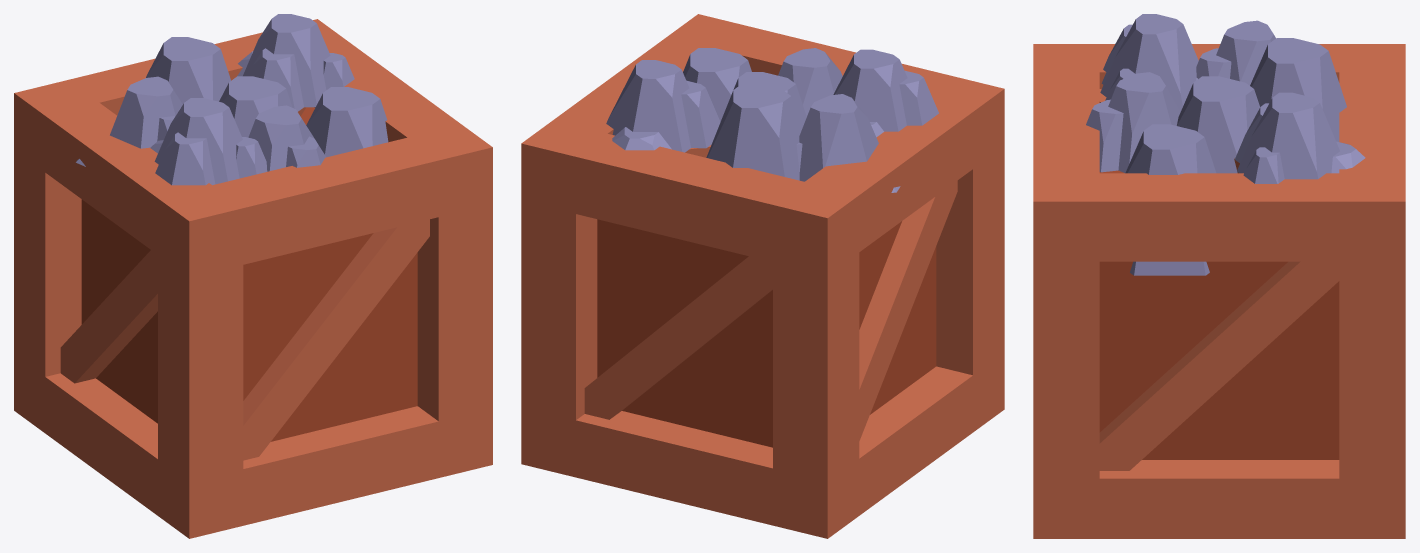
Rendered from RockBox.fbx.
3 renders of one model, left to right at view 1: azimuth 30°, elevation 25°; view 2: azimuth 150°, elevation 25°; view 3: azimuth 270°, elevation 25°, orthographic. The views are drawn at different scales.
Parts seen in each view (by area): view 1: mergedBlocks; view 2: mergedBlocks; view 3: mergedBlocks.
Part boxes in pixels (x1=…): mergedBlocks: x1=14, y1=14, x2=492, y2=538; mergedBlocks: x1=521, y1=14, x2=1004, y2=538; mergedBlocks: x1=1033, y1=14, x2=1405, y2=538.
Size of the model in its own units: 3.03 by 3.51 by 3.
